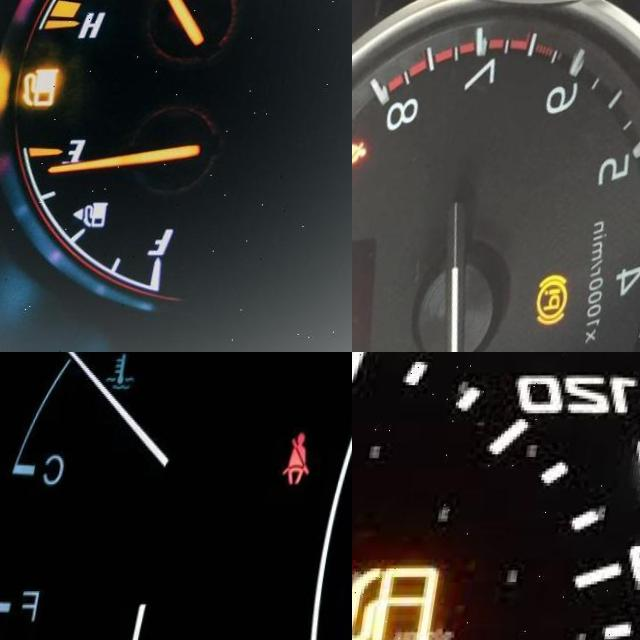Seat Belt: (287, 432, 329, 487), (352, 136, 379, 171)
